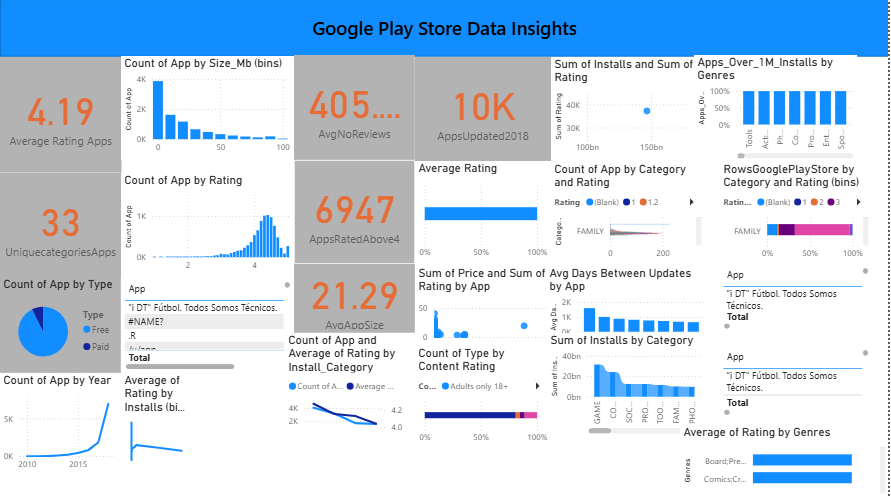

What the dashboard file says about the page in this screenshot:
{"tool":"powerbi","page":{"name":"Page 1","canvas":[1280,720],"ordinal":0},"visuals":[{"type":"card","fields":{"Values":["googleplaystore.Measure"]},"box":[0,85.7,174.7,168],"z":0},{"type":"shape","box":[0,0,1280,85.7],"z":1000},{"type":"card","fields":{"Values":["googleplaystore.UniquecategoriesApps"]},"box":[0,253.6,174.7,149.5],"z":2000},{"type":"clusteredColumnChart","fields":{"Category":["googleplaystore.Size_Mb (bins)"],"Y":["CountNonNull(googleplaystore.App)"]},"box":[174.2,85,249.1,149.8],"z":3000},{"type":"pieChart","fields":{"Y":["CountNonNull(googleplaystore.App)"],"Category":["googleplaystore.Type"]},"box":[0,403.2,174.2,138.2],"z":4000},{"type":"clusteredColumnChart","fields":{"Category":["googleplaystore.Rating"],"Y":["CountNonNull(googleplaystore.App)"]},"box":[174.2,253.4,249.1,151.2],"z":5000},{"type":"tableEx","fields":{"Values":["googleplaystore.App","Sum(googleplaystore.Installs)"]},"box":[174.2,404.6,249.1,136.8],"z":6000},{"type":"card","fields":{"Values":["googleplaystore.Measure"]},"box":[423.4,234.7,174.2,149.8],"z":7000},{"type":"card","fields":{"Values":["googleplaystore.AvgNoReviews"]},"box":[423.4,83.5,174.2,151.2],"z":8000},{"type":"card","fields":{"Values":["googleplaystore.AvgAppSize"]},"box":[423.4,384.5,174.2,99.4],"z":9000},{"type":"card","fields":{"Values":["googleplaystore.AppsUpdated2018M"]},"box":[597.6,86.4,195.8,149.8],"z":10000},{"type":"scatterChart","fields":{"X":["Sum(googleplaystore.Installs)"],"Y":["Sum(googleplaystore.Rating)"]},"box":[793.4,86.4,221.8,148.3],"z":11000},{"type":"hundredPercentStackedBarChart","fields":{"Y":["googleplaystore.Average Rating"]},"box":[597.6,236.2,195.8,149.8],"z":12000},{"type":"scatterChart","fields":{"X":["Sum(googleplaystore.Price)"],"Y":["Sum(googleplaystore.Rating)"],"Category":["googleplaystore.App"]},"box":[597.6,387.4,195.8,116.6],"z":13000},{"type":"clusteredBarChart","fields":{"Category":["googleplaystore.Category"],"Y":["CountNonNull(googleplaystore.App)"],"Series":["googleplaystore.Rating"]},"box":[793.4,237.6,221.8,149.8],"z":14000},{"type":"hundredPercentStackedColumnChart","fields":{"Y":["googleplaystore.Apps_Over_1M_Installs"],"Category":["googleplaystore.Genres"]},"box":[999.4,83.5,234.7,154.1],"z":15000},{"type":"clusteredColumnChart","fields":{"Y":["googleplaystore.Avg Days Between Updates"],"Category":["googleplaystore.App"]},"box":[786.2,387.4,234.7,116.6],"z":16000},{"type":"hundredPercentStackedBarChart","fields":{"Category":["googleplaystore.Category"],"Y":["googleplaystore.RowsGooglePlayStore"],"Series":["googleplaystore.Rating (bins)"]},"box":[1036.8,237.6,218.9,149.8],"z":17000},{"type":"pivotTable","fields":{"Rows":["googleplaystore.App"],"Values":["Sum(googleplaystore.Rating)","Sum(googleplaystore.Reviews)"]},"box":[1036.8,384.5,218.9,99.4],"z":18000},{"type":"hundredPercentStackedBarChart","fields":{"Series":["googleplaystore.Content Rating"],"Y":["CountNonNull(googleplaystore.Type)"]},"box":[597.6,502.6,195.8,149.8],"z":19000},{"type":"ribbonChart","fields":{"Category":["googleplaystore.Category"],"Y":["Sum(googleplaystore.Installs)"]},"box":[787.7,483.8,227.5,149.8],"z":20000},{"type":"pivotTable","fields":{"Rows":["googleplaystore.App"],"Values":["Sum(googleplaystore.Installs)","Sum(googleplaystore.Rating)","Sum(googleplaystore.Reviews)"]},"box":[1036.8,502.6,218.9,105.1],"z":21000},{"type":"lineChart","fields":{"Category":["googleplaystore.Last Updated.Variation.Date Hierarchy.Year"],"Y":["CountNonNull(googleplaystore.App)"]},"box":[0,541,174,150],"z":22000},{"type":"lineChart","fields":{"Y":["Avg(googleplaystore.Rating)"],"Category":["googleplaystore.Installs (bins)"]},"box":[174.2,541.4,102.2,132.5],"z":23000},{"type":"lineChart","fields":{"Category":["googleplaystore.Install_Category"],"Y":["CountNonNull(googleplaystore.App)"],"Y2":["Avg(googleplaystore.Rating)"]},"box":[410.4,483.8,174.2,149.8],"z":24000},{"type":"clusteredBarChart","fields":{"Category":["googleplaystore.Genres"],"Y":["Avg(googleplaystore.Rating)"]},"box":[979.2,616.3,301,103.7],"z":24001}]}

Visuals, with their boxes in screenshot pixels (x1, y1, x2, y2), scaled from the page's 1280x720 canvas onto the 891x497 screenshot:
card - googleplaystore.Measure: [0,59,122,175]
shape: [0,0,890,59]
card - googleplaystore.UniquecategoriesApps: [0,175,122,278]
clusteredColumnChart - googleplaystore.Size_Mb (bins) x CountNonNull(googleplaystore.App): [121,59,295,162]
pieChart - CountNonNull(googleplaystore.App) x googleplaystore.Type: [0,278,121,374]
clusteredColumnChart - googleplaystore.Rating x CountNonNull(googleplaystore.App): [121,175,295,279]
tableEx - googleplaystore.App x Sum(googleplaystore.Installs): [121,279,295,374]
card - googleplaystore.Measure: [295,162,416,265]
card - googleplaystore.AvgNoReviews: [295,58,416,162]
card - googleplaystore.AvgAppSize: [295,265,416,334]
card - googleplaystore.AppsUpdated2018M: [416,60,552,163]
scatterChart - Sum(googleplaystore.Installs) x Sum(googleplaystore.Rating): [552,60,707,162]
hundredPercentStackedBarChart - googleplaystore.Average Rating: [416,163,552,266]
scatterChart - Sum(googleplaystore.Price) x Sum(googleplaystore.Rating): [416,267,552,348]
clusteredBarChart - googleplaystore.Category x CountNonNull(googleplaystore.App): [552,164,707,267]
hundredPercentStackedColumnChart - googleplaystore.Apps_Over_1M_Installs x googleplaystore.Genres: [696,58,859,164]
clusteredColumnChart - googleplaystore.Avg Days Between Updates x googleplaystore.App: [547,267,711,348]
hundredPercentStackedBarChart - googleplaystore.Category x googleplaystore.RowsGooglePlayStore: [722,164,874,267]
pivotTable - googleplaystore.App x Sum(googleplaystore.Rating): [722,265,874,334]
hundredPercentStackedBarChart - googleplaystore.Content Rating x CountNonNull(googleplaystore.Type): [416,347,552,450]
ribbonChart - googleplaystore.Category x Sum(googleplaystore.Installs): [548,334,707,437]
pivotTable - googleplaystore.App x Sum(googleplaystore.Installs): [722,347,874,419]
lineChart - googleplaystore.Last Updated.Variation.Date Hierarchy.Year x CountNonNull(googleplaystore.App): [0,373,121,477]
lineChart - Avg(googleplaystore.Rating) x googleplaystore.Installs (bins): [121,374,192,465]
lineChart - googleplaystore.Install_Category x CountNonNull(googleplaystore.App): [286,334,407,437]
clusteredBarChart - googleplaystore.Genres x Avg(googleplaystore.Rating): [682,425,890,496]
